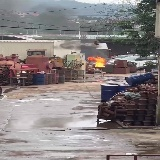fire: (87, 56, 105, 67)
